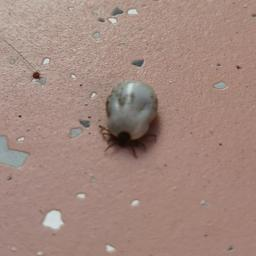Rhipicephalus sanguineus: (98, 79, 159, 161)
